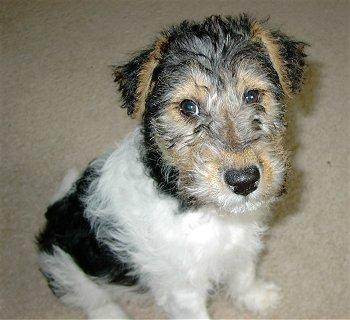wire-haired_fox_terrier: (31, 6, 313, 319)
